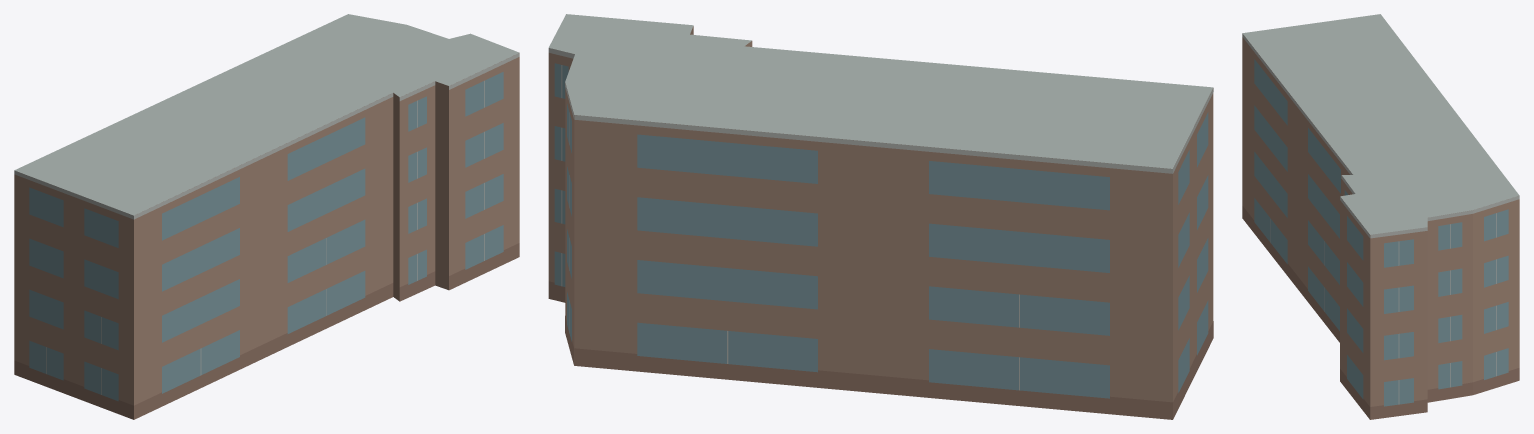
The model's file is survey-upis-32488052.glb.
3 views of the same model, side by side, from view 1: azimuth 30°, elevation 25°; view 2: azimuth 150°, elevation 25°; view 3: azimuth 270°, elevation 25° (orthographic). The views are drawn at different scales.
Visible parts, largest first — view 1: survey-upis-32488052.tmp; view 2: survey-upis-32488052.tmp; view 3: survey-upis-32488052.tmp.
Part boxes in pixels (x1=…): survey-upis-32488052.tmp: x1=14, y1=14, x2=519, y2=419; survey-upis-32488052.tmp: x1=548, y1=14, x2=1213, y2=419; survey-upis-32488052.tmp: x1=1242, y1=14, x2=1519, y2=419.
Bounding box in the file's own units: 32.01 × 12.5 × 16.98.
